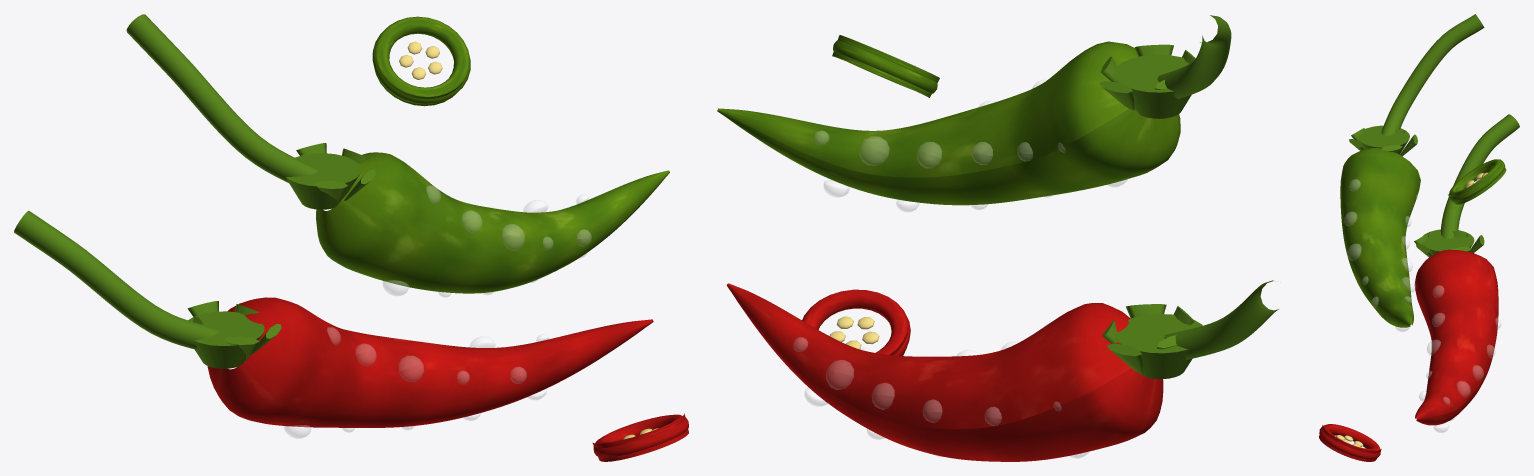
The model's file is chili-duo.glb.
3 views of the same model, side by side, from view 1: azimuth 30°, elevation 25°; view 2: azimuth 150°, elevation 25°; view 3: azimuth 270°, elevation 25° (orthographic). The views are drawn at different scales.
Size of the model in its own units: 0.0939 by 0.0736 by 0.0428.
Materials: 5 (2 with a texture image).
